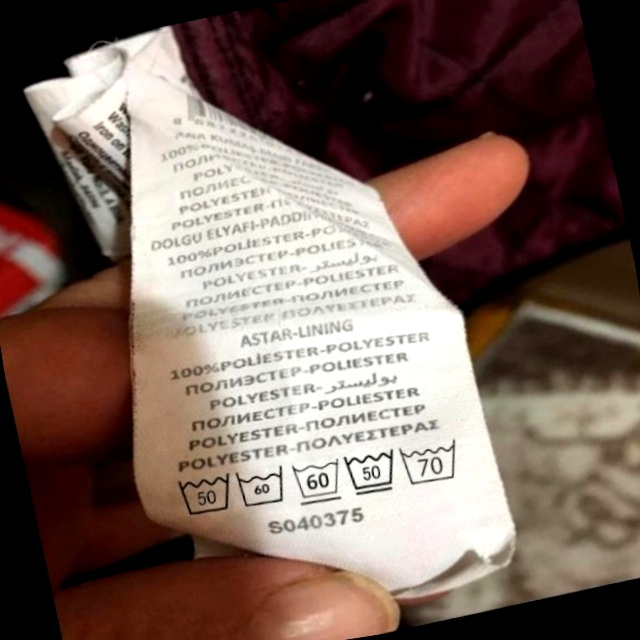50C: (169, 462, 241, 525), (339, 441, 406, 502)
60C: (288, 450, 351, 509), (231, 458, 295, 516)
70C: (397, 432, 470, 491)
